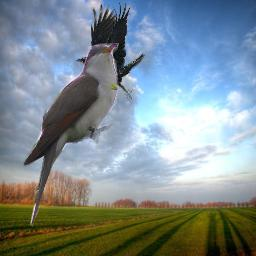Crow: (75, 0, 145, 101)
Cuckoo: (22, 43, 119, 228)
